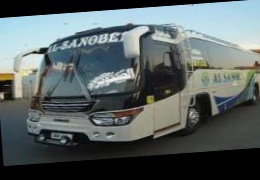bus: (11, 14, 260, 151)
